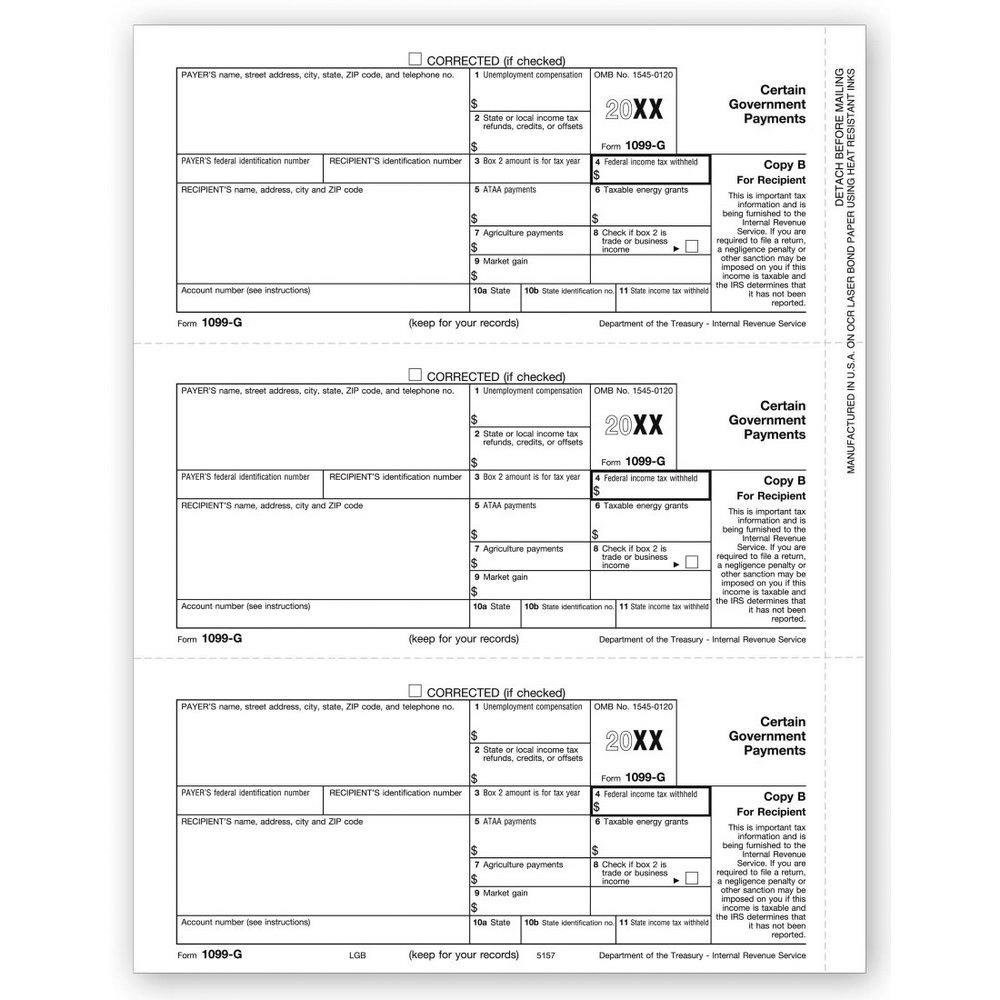checkbox: (406, 49, 425, 66), (405, 365, 424, 382), (406, 681, 425, 698), (681, 869, 700, 886), (682, 552, 701, 569), (682, 237, 701, 254)
textbox: (172, 179, 472, 287), (172, 494, 472, 602), (172, 810, 472, 918), (174, 65, 474, 157), (172, 380, 472, 472), (173, 696, 473, 788), (171, 910, 473, 945), (171, 597, 473, 632), (172, 280, 474, 315), (466, 63, 594, 115), (466, 106, 594, 158), (465, 178, 593, 230), (466, 381, 594, 433), (465, 423, 593, 475), (465, 494, 593, 546), (587, 494, 715, 546), (586, 180, 714, 232), (465, 695, 593, 747), (466, 738, 594, 790), (466, 810, 594, 862), (586, 810, 714, 862), (170, 149, 327, 187), (316, 148, 473, 186), (316, 464, 473, 502), (172, 464, 329, 502), (170, 780, 327, 818), (317, 781, 474, 819), (465, 150, 597, 187), (584, 150, 716, 187), (463, 222, 595, 259), (463, 250, 595, 287), (586, 250, 718, 287), (464, 536, 596, 573), (463, 467, 595, 504), (585, 467, 717, 504), (462, 565, 594, 602), (461, 782, 593, 819), (585, 782, 717, 819), (463, 853, 595, 890), (462, 882, 594, 919), (517, 279, 620, 317), (611, 278, 714, 316), (612, 594, 715, 632), (517, 594, 620, 632), (612, 908, 715, 946), (517, 910, 620, 948), (465, 279, 526, 316), (463, 595, 524, 632), (465, 910, 526, 947)
